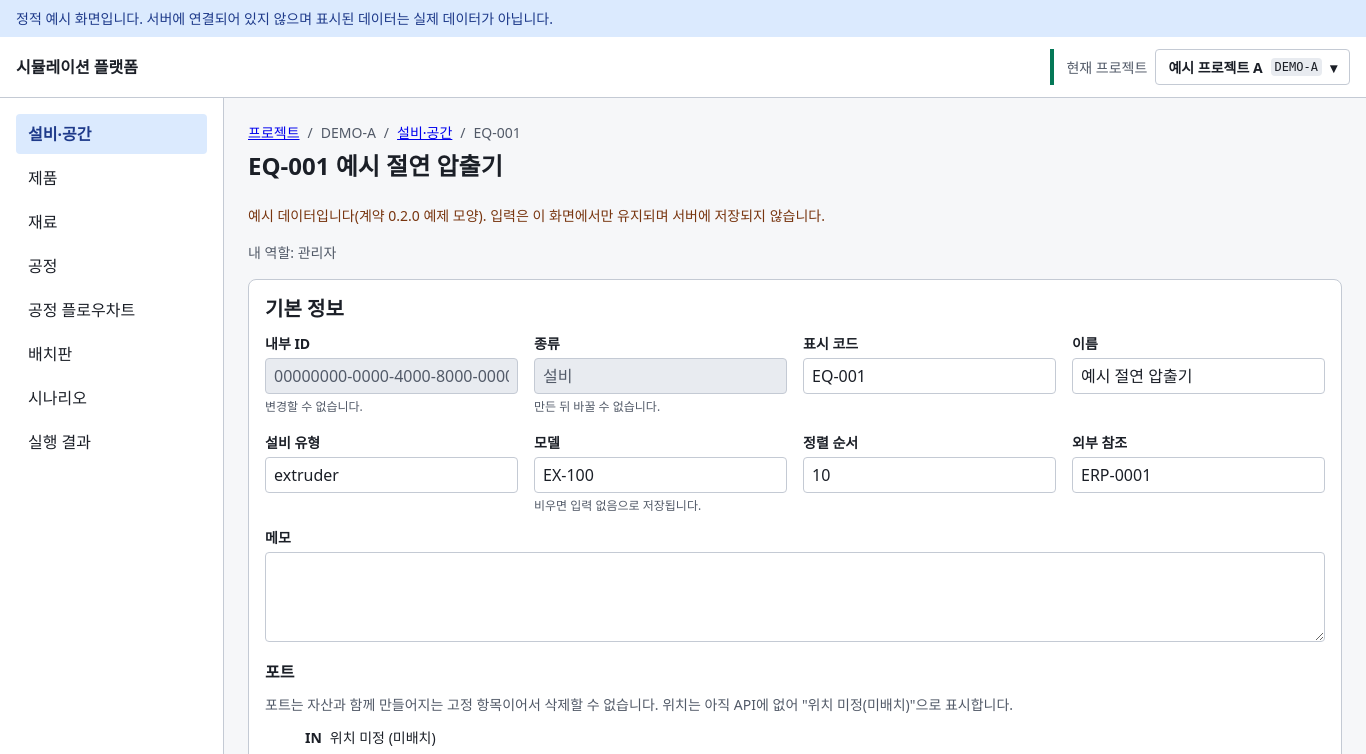
Scenario: 설비 상세: 설비(승인본 + 초안) › 기본 정보 변경과 용량 변경은 각각 따로 표시되고 정적 예시에서는 저장 버튼이 비활성이다
Type "X" into the field labelled "모델".
click(660, 475); type("X")  # box top-left (534, 457), bottom-right (787, 493)
(page scrolled)
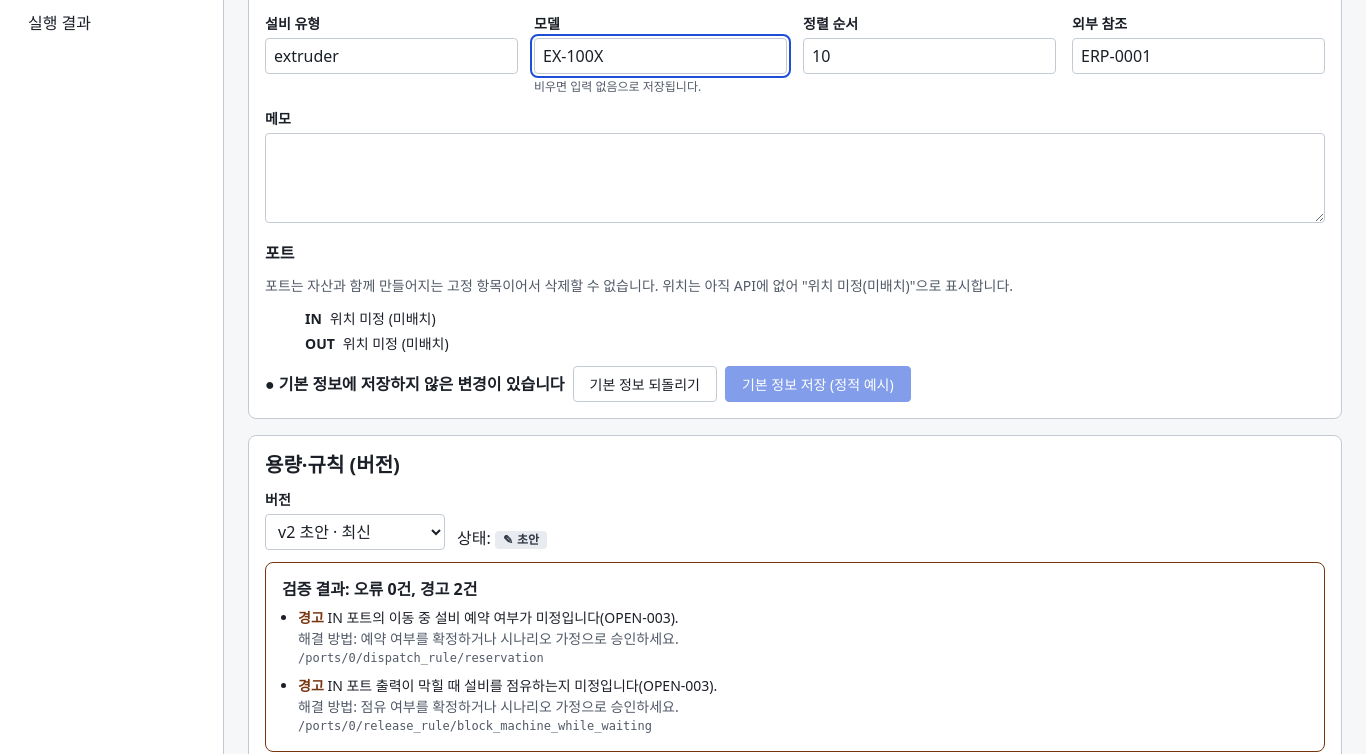
Check: the button "기본 정보 저장 (정적 예시)" is disabled, box top-left (725, 366), bottom-right (911, 402)
Check: the text "● 기본 정보에 저장하지 않은 변경이 있습니다" is shown, box top-left (265, 372), bottom-right (565, 396)
Click the button "기본 정보 되돌리기".
click(645, 384)  # box top-left (573, 366), bottom-right (717, 402)
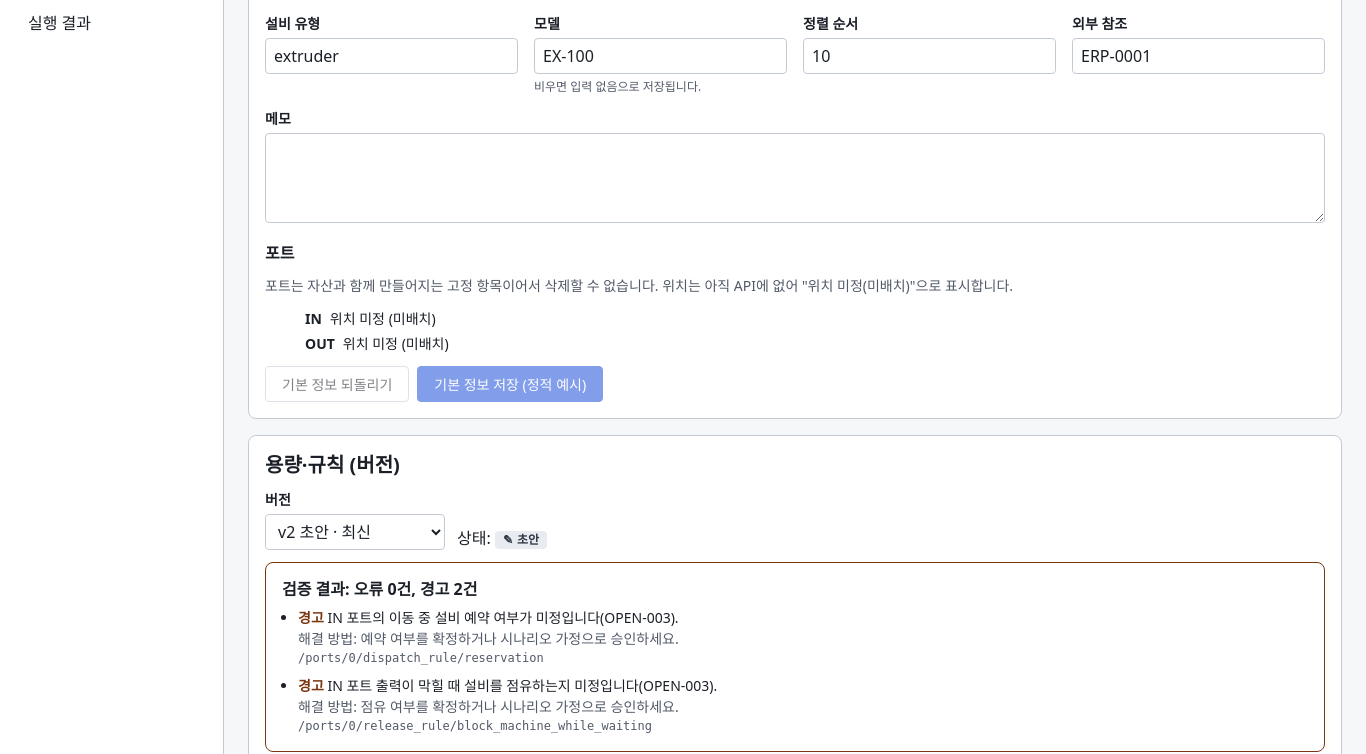
Check: the text "기본 정보에 저장하지 않은 변경" is gone
